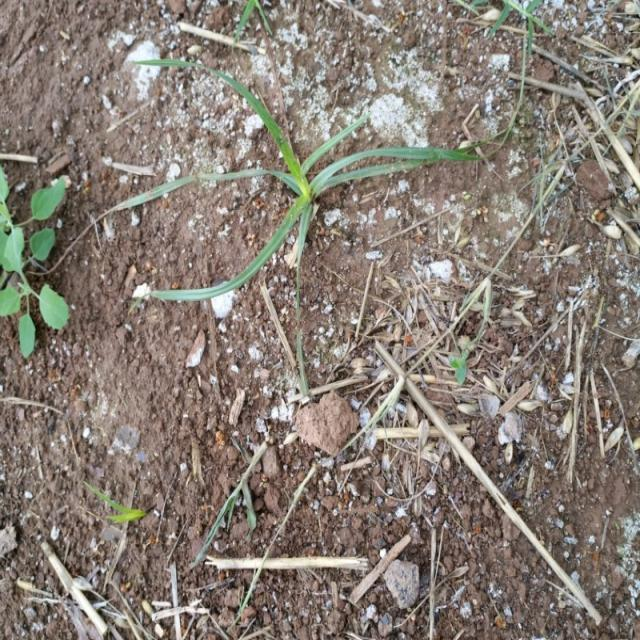sedge: (170, 23, 472, 340)
